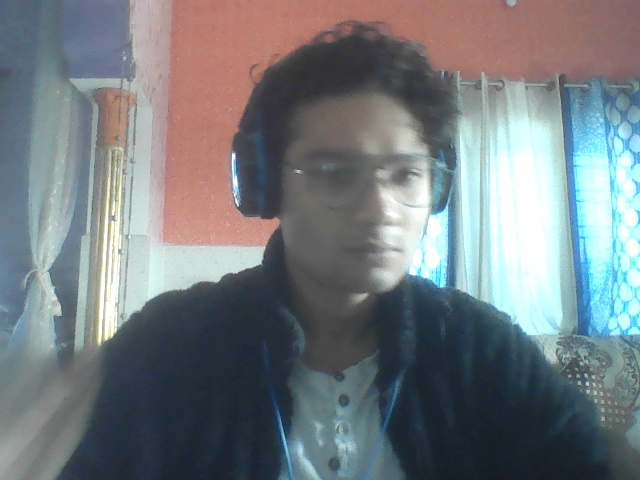real: (259, 37, 455, 315)
